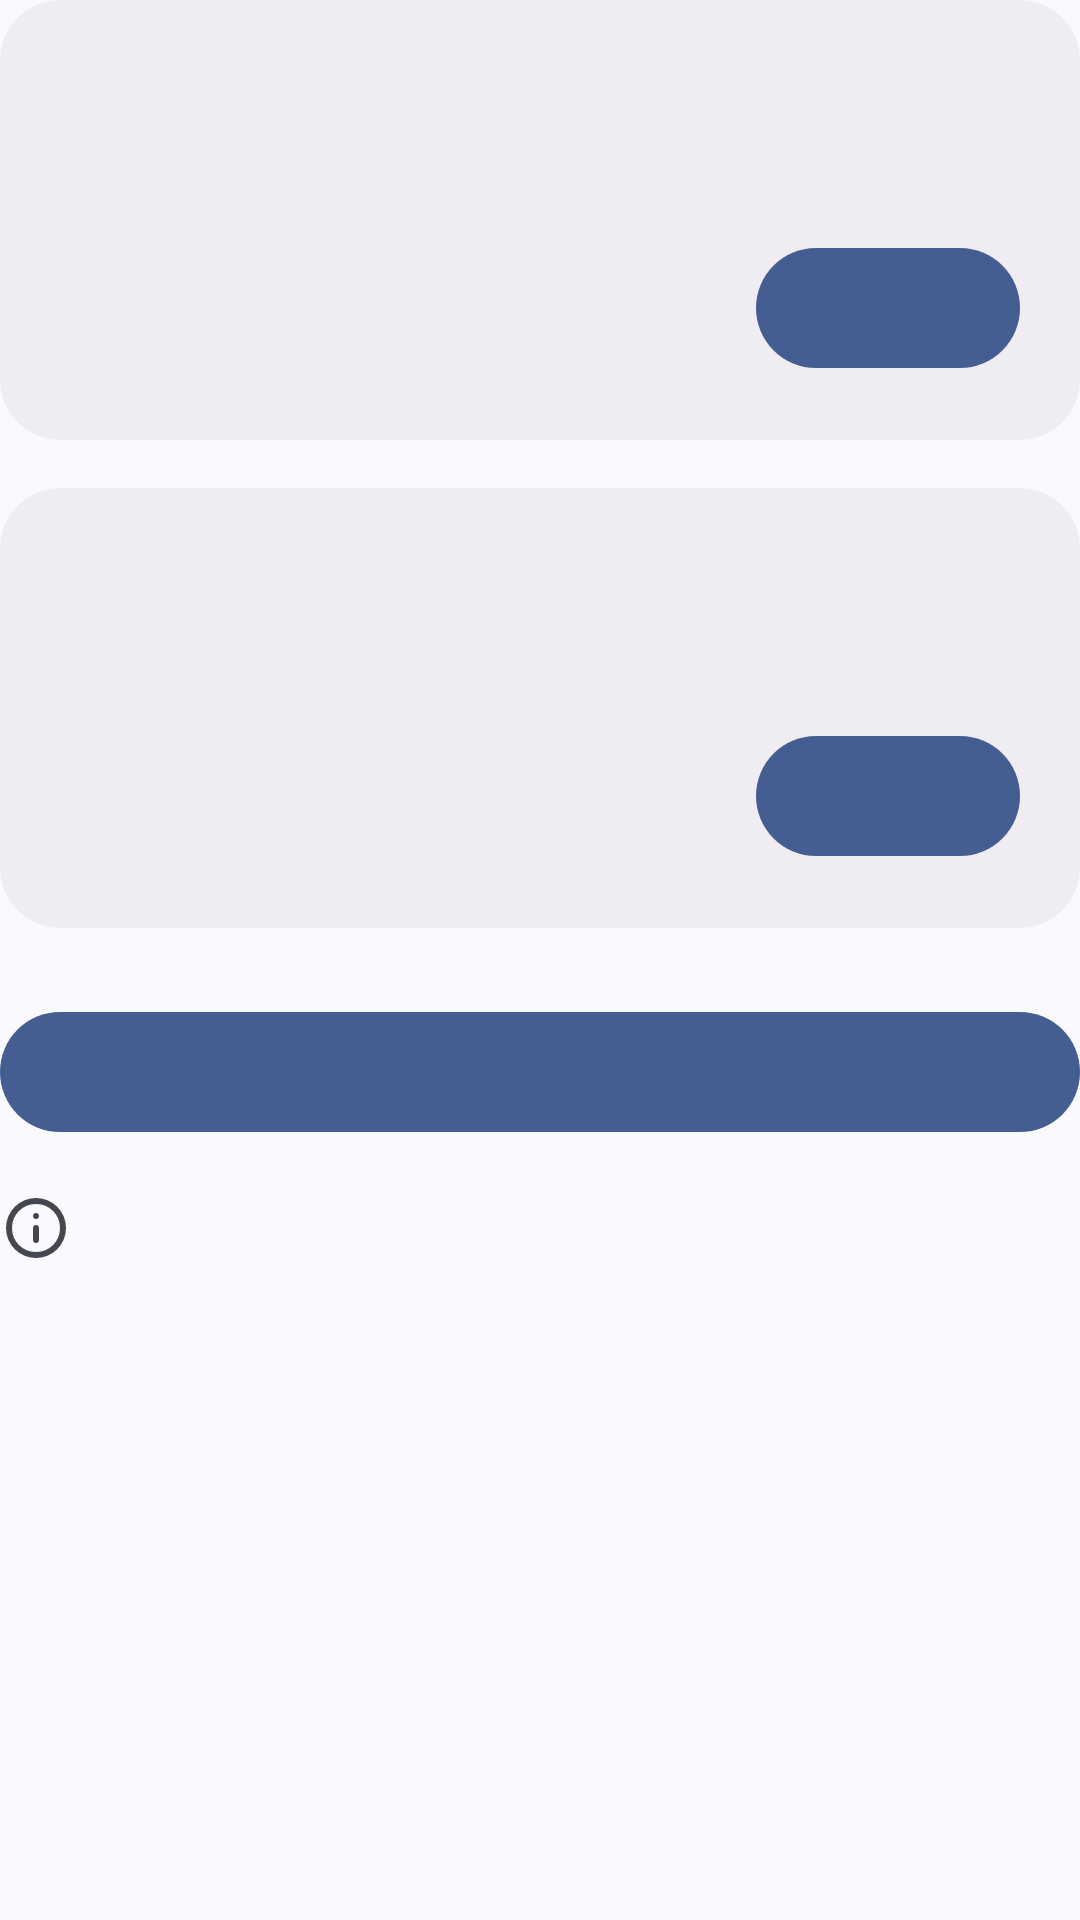

Named icons in this screenshot (1080 × 1920) and their centers, point (x, y):
info: point (36, 1228)
